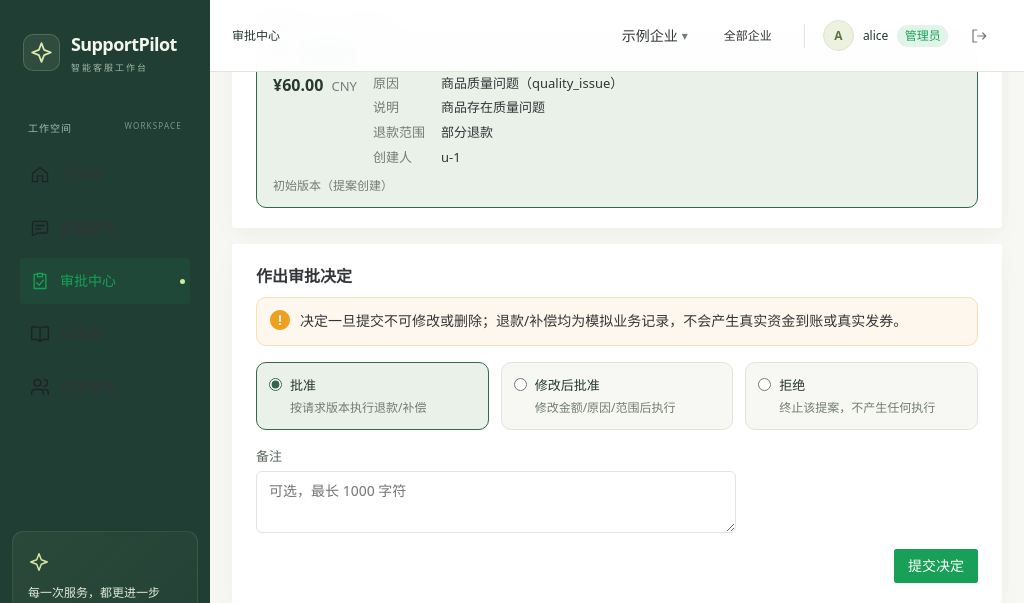
Test: ApprovalDetailView 决定流转 › 422：错误映射到表单且不清空用户输入
(page scrolled)
Click the radio button with test id "mode-approved_with_changes" at (520, 384), box left=514, top=378, right=527, bottom=391
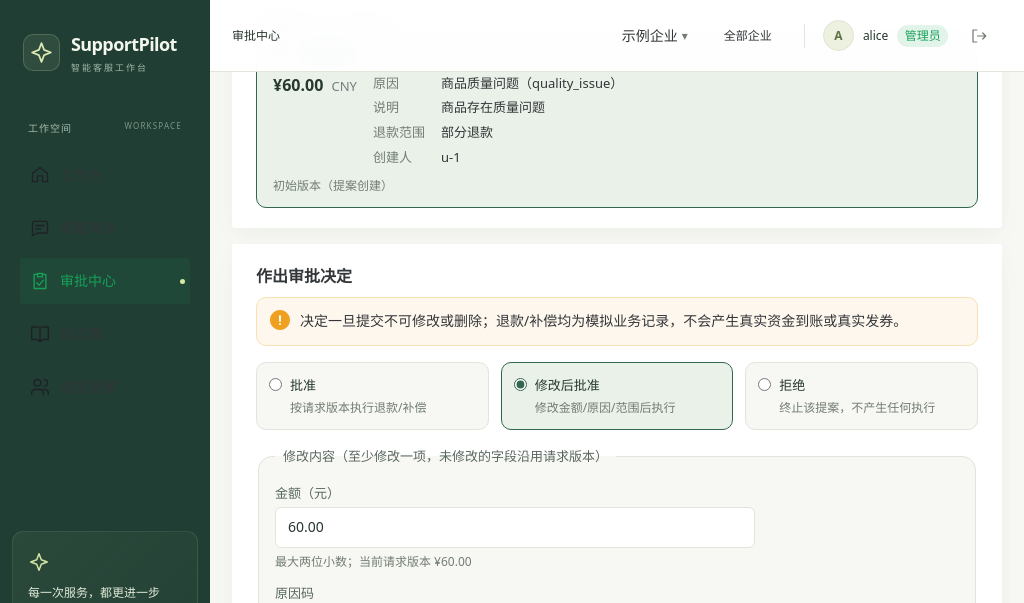
Replace the text in the field with test id "amount-input" with "12.34" at (515, 528), box left=275, top=507, right=755, bottom=548
(page scrolled)
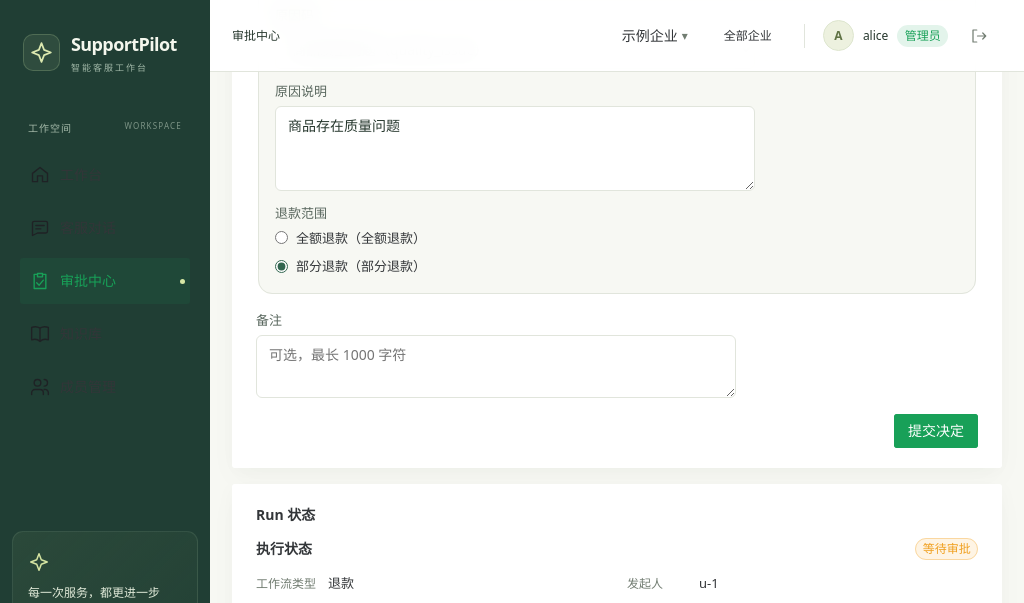
Click the button with test id "submit-decision" at (936, 431), box left=894, top=414, right=978, bottom=448
(page scrolled)
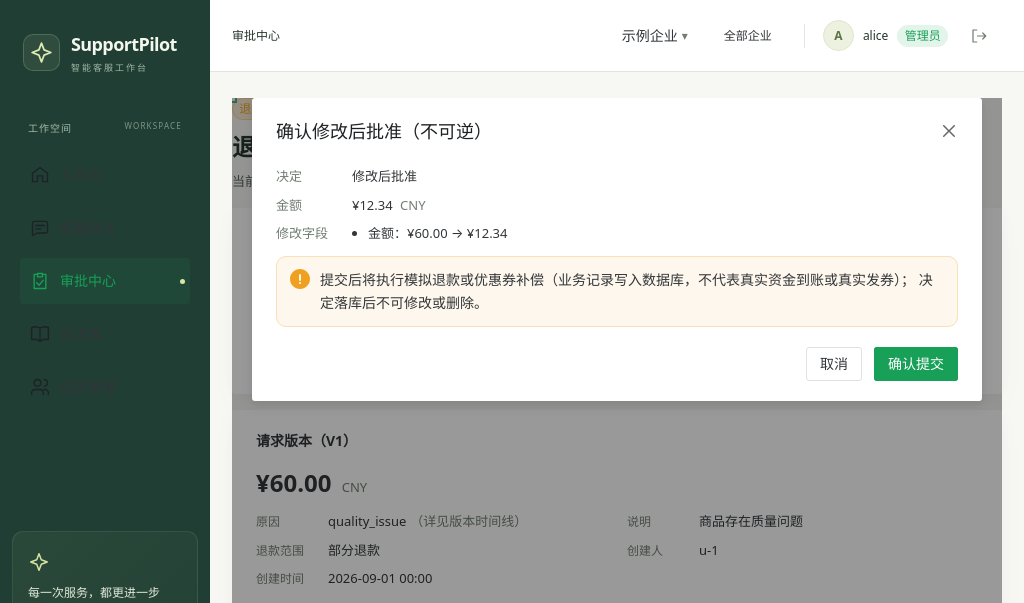
Click the button with test id "confirm-decision" at (916, 364), box left=874, top=347, right=958, bottom=381
(page scrolled)
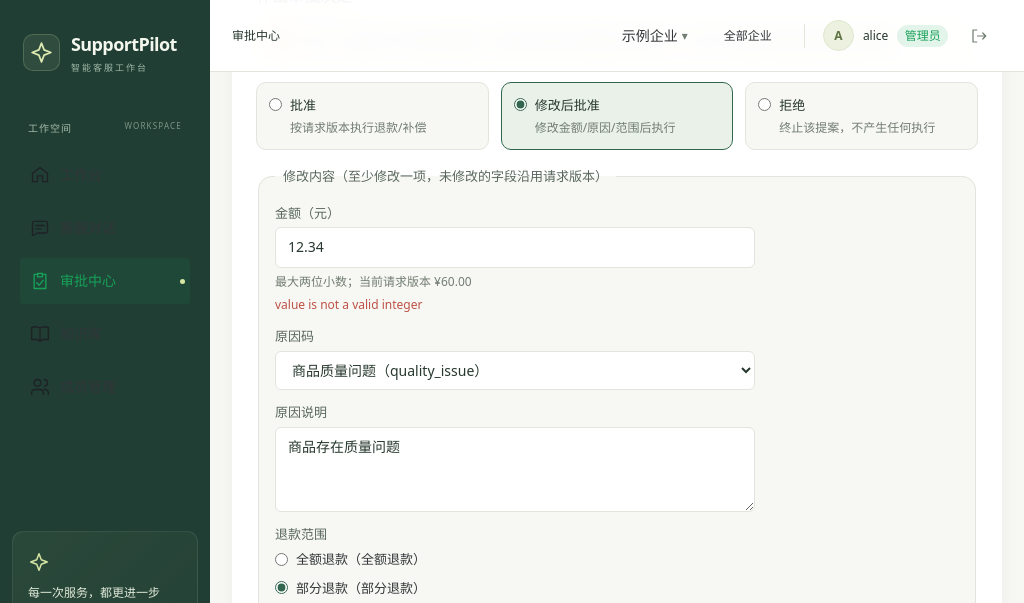
Expected: the text with test id "amount-error" reads "value is not a valid integer", left=275, top=296, right=422, bottom=313
